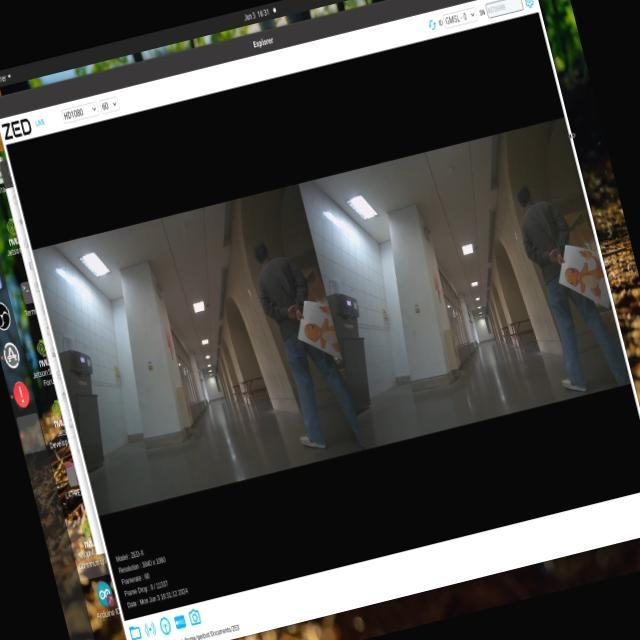red: (550, 230, 612, 318), (296, 298, 343, 366)
